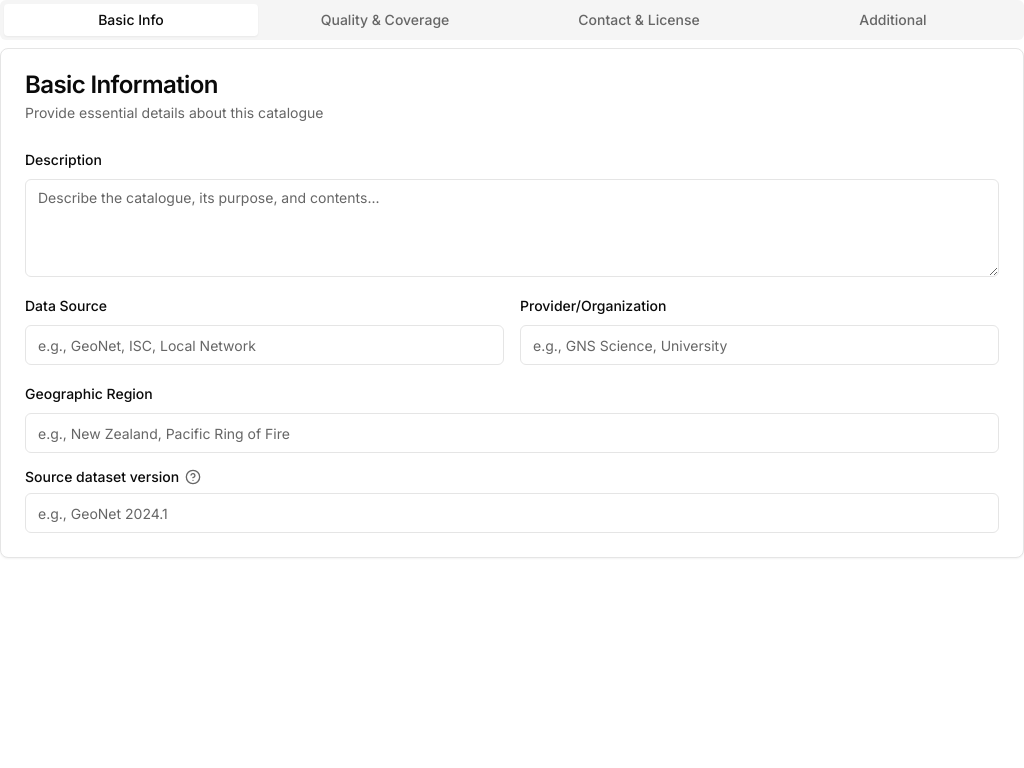
Test case: CatalogueMetadataForm — Time Period UTC handling (gc#6) › labels both time-period fields as UTC
This screenshot has width=1024, height=768.
Click the tab "Quality & Coverage": coordinates (385, 20) [258,4,512,36]
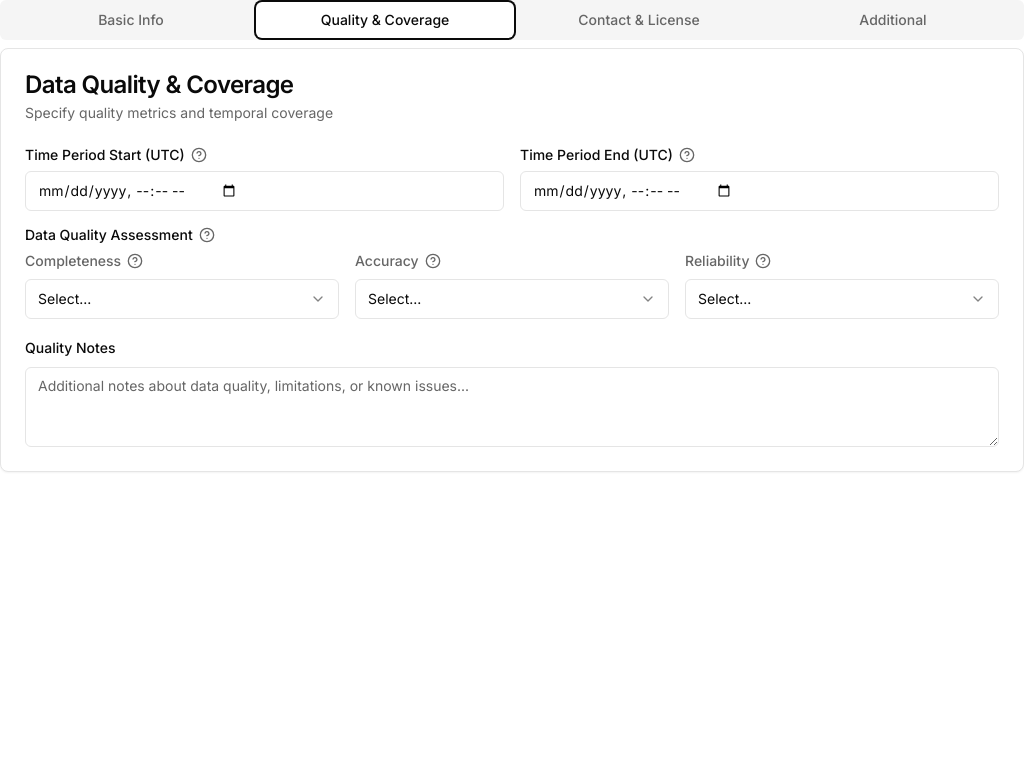
expect the field labelled "Time Period Start (UTC)" is shown: met, box [25,171,504,211]
expect the field labelled "Time Period End (UTC)" is shown: met, box [520,171,999,211]
